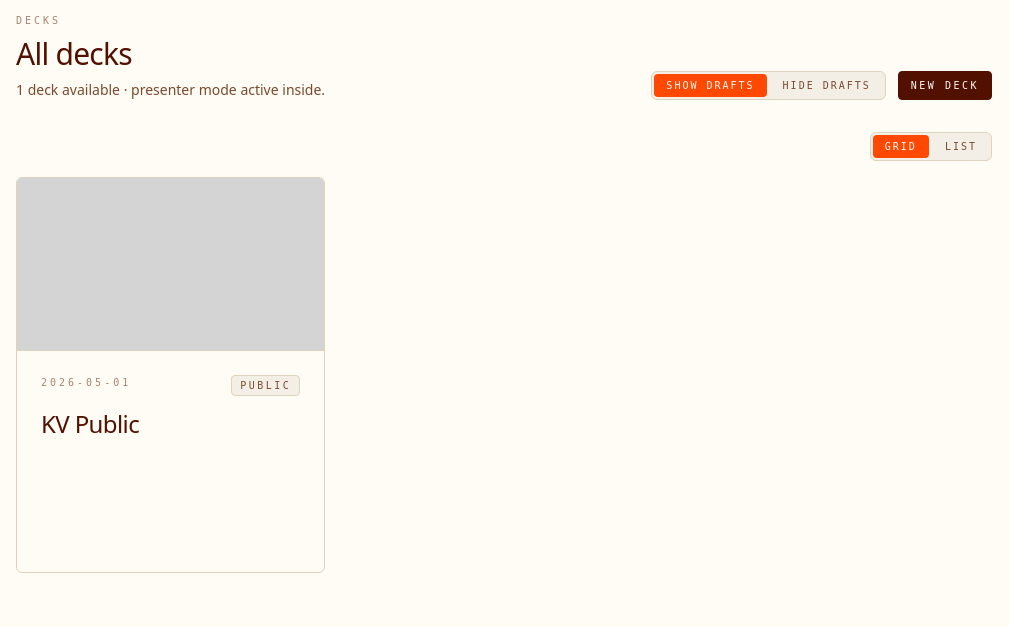
Test: AdminIndex — KV visibility quick toggle (#214) › GET failure surfaces an inline error and does NOT issue a POST
The image size is (1009, 627).
Click the button with test id "deck-visibility-toggle-kv-public". click: (266, 385)
box: [231,375,300,396]
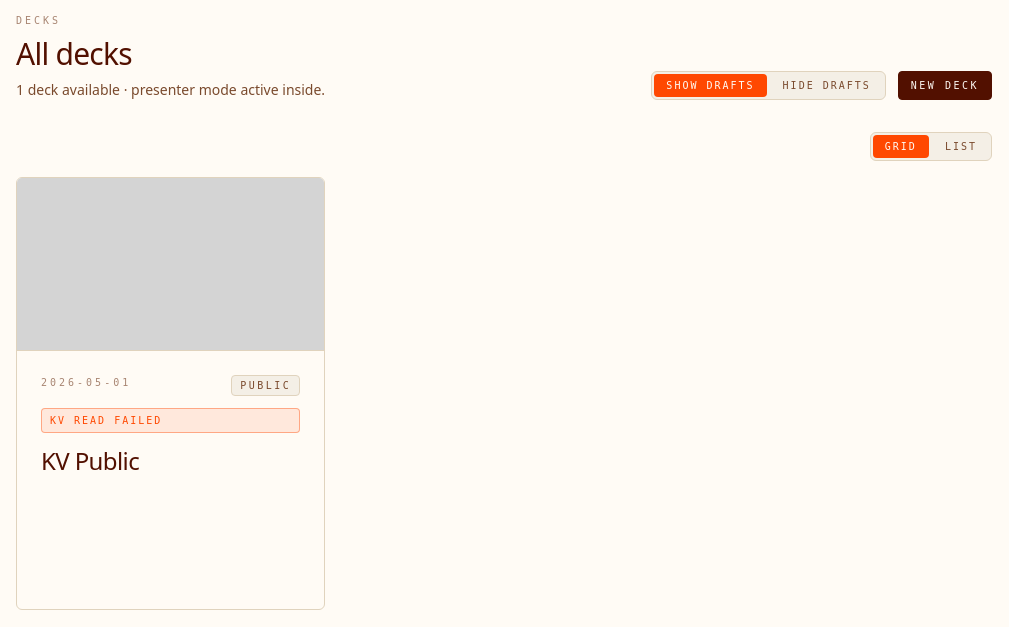
Expected: the message "kv read failed" is shown, [41,408,300,433]
